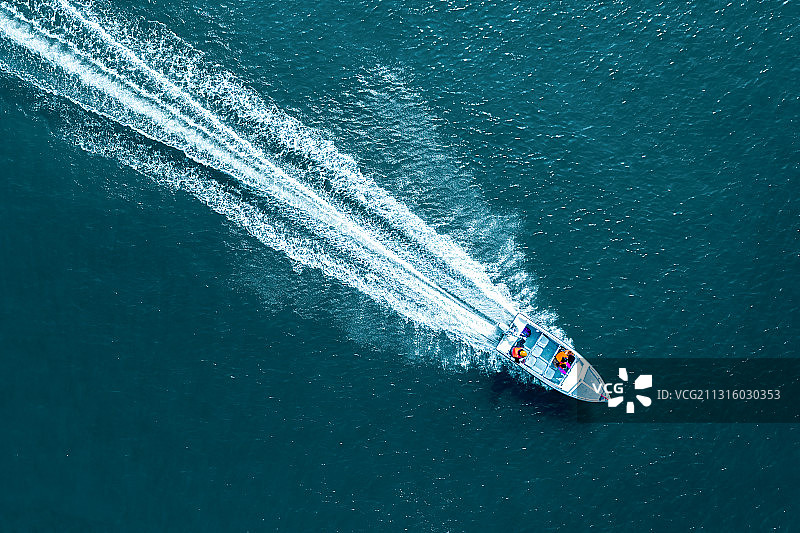ship: (483, 299, 618, 425)
